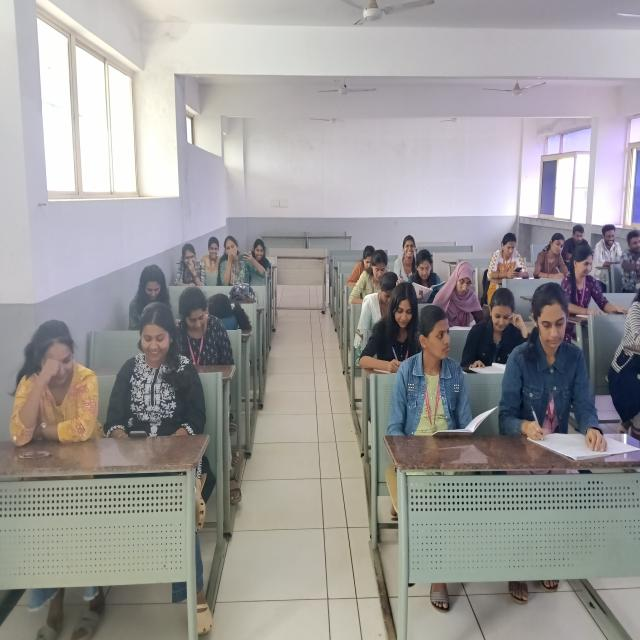Reading: (464, 284, 527, 377), (436, 259, 480, 329), (405, 252, 448, 302)
Sleeping: (204, 291, 253, 337)
Using Phone: (107, 299, 202, 444), (172, 284, 234, 372), (128, 260, 173, 322), (486, 231, 533, 285), (218, 234, 258, 284)
Writing: (506, 281, 611, 452), (361, 282, 424, 371), (533, 230, 571, 280)
